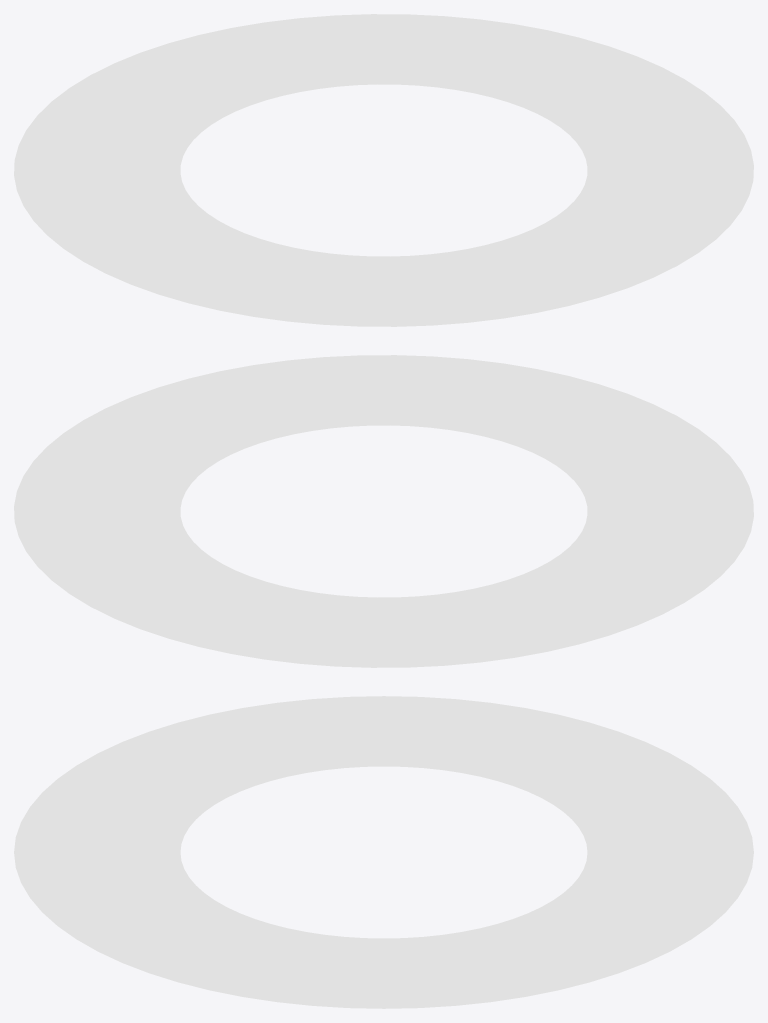
File: ShockwaveRing.fbx
3 renders of one model, top to bottom at view 1: azimuth 30°, elevation 25°; view 2: azimuth 150°, elevation 25°; view 3: azimuth 270°, elevation 25°, orthographic.
Visible parts, largest first — view 1: ShockwaveRing; view 2: ShockwaveRing; view 3: ShockwaveRing.
Part boxes in pixels (box(x1,y1,x2,y2)): ShockwaveRing: box(14, 14, 753, 326); ShockwaveRing: box(14, 355, 753, 667); ShockwaveRing: box(14, 696, 753, 1008).
Bounding box in the file's own units: 2 × 8.74e-08 × 2.
1 material, 1 textured.
